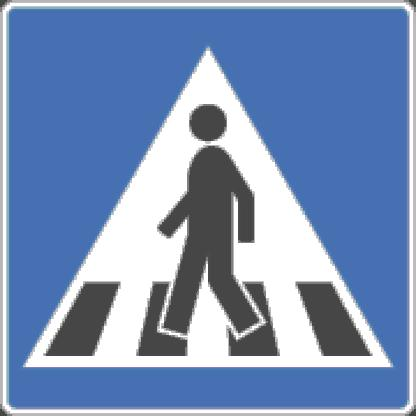Pedestrian Crossing: (25, 45, 393, 382)
